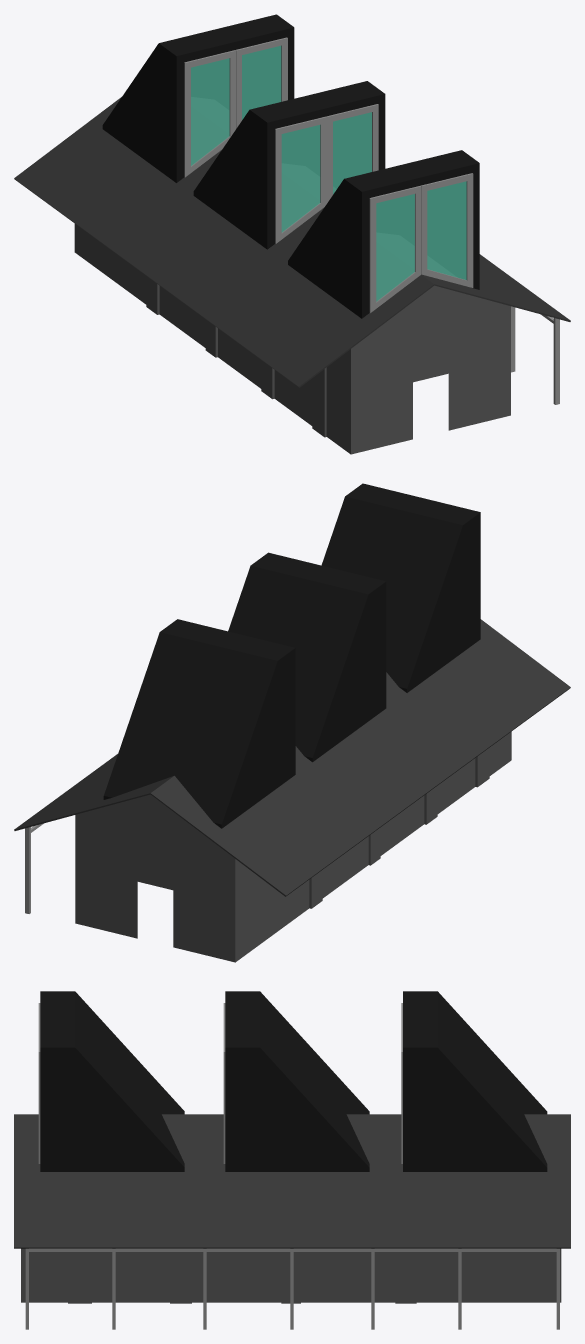
Rendered from SM_North_lite.FBX.
The picture shows the model from 3 angles, top to bottom: view 1: azimuth 30°, elevation 25°; view 2: azimuth 150°, elevation 25°; view 3: azimuth 270°, elevation 25°; orthographic projection. The views are drawn at different scales.
Visible parts, largest first — view 1: SM_North_lite; view 2: SM_North_lite; view 3: SM_North_lite.
Part boxes in pixels (bbox=[...]): SM_North_lite: bbox=[14, 14, 570, 454]; SM_North_lite: bbox=[14, 483, 570, 962]; SM_North_lite: bbox=[14, 991, 570, 1329].
Size of the model in its own units: 16030 by 14235 by 29044.
